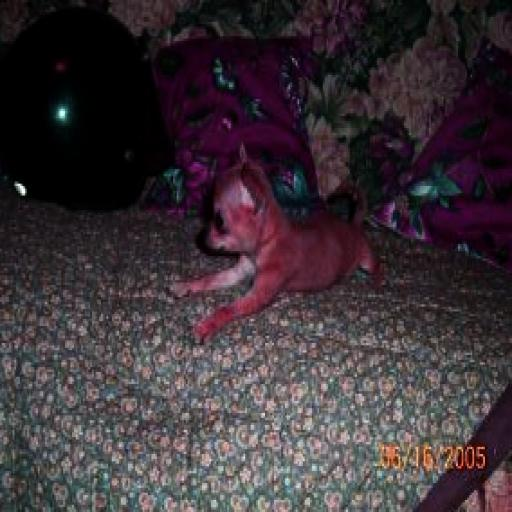dog_face: (200, 156, 269, 262)
